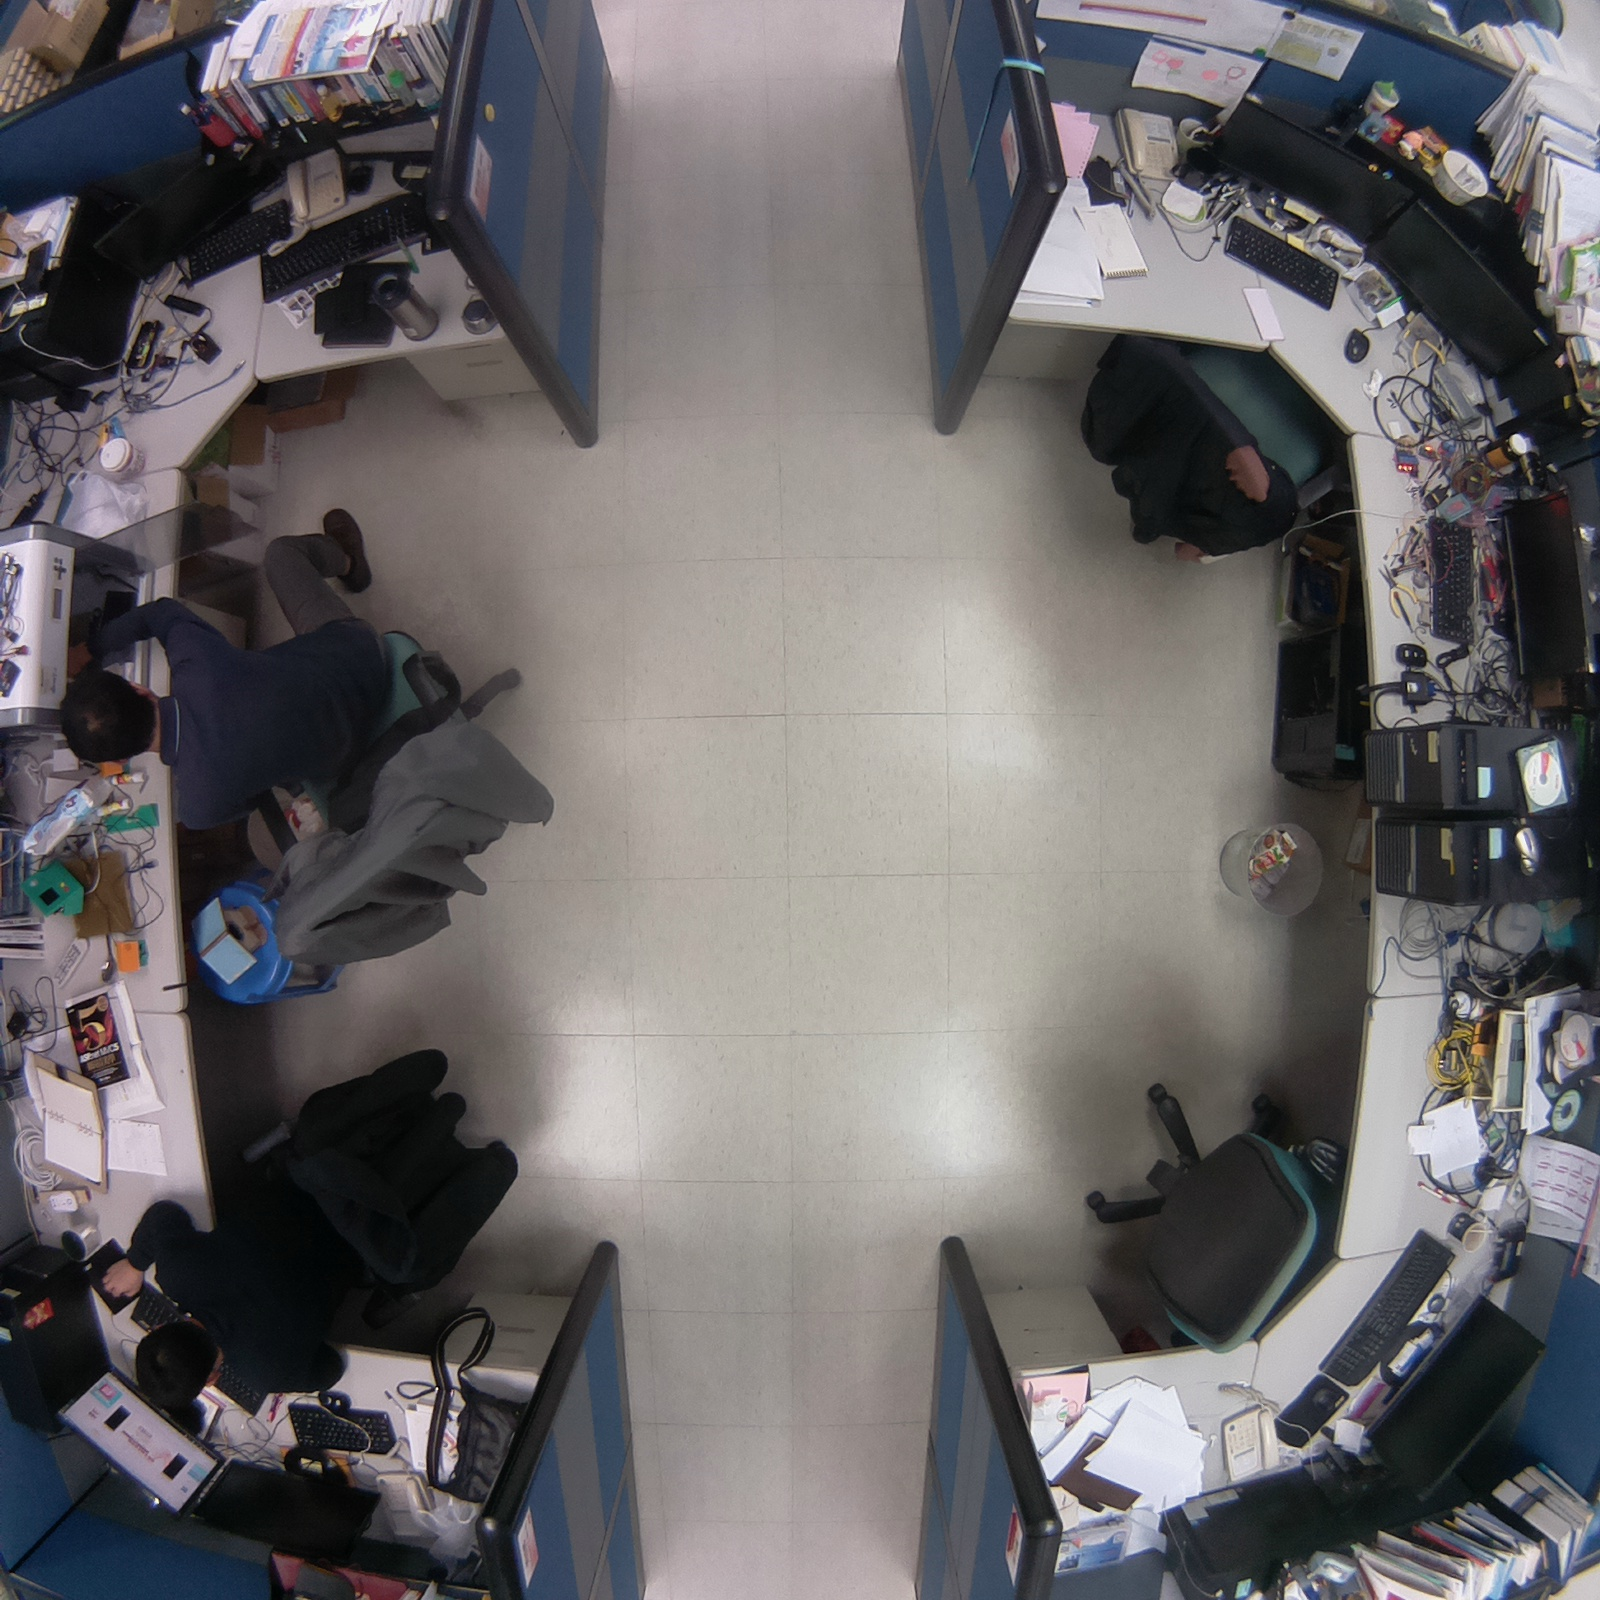chair: (1068, 1070, 1353, 1373), (1058, 317, 1353, 581)
head: (51, 665, 168, 774), (129, 1314, 227, 1417)
sitting: (44, 492, 565, 983), (95, 1032, 529, 1423)
